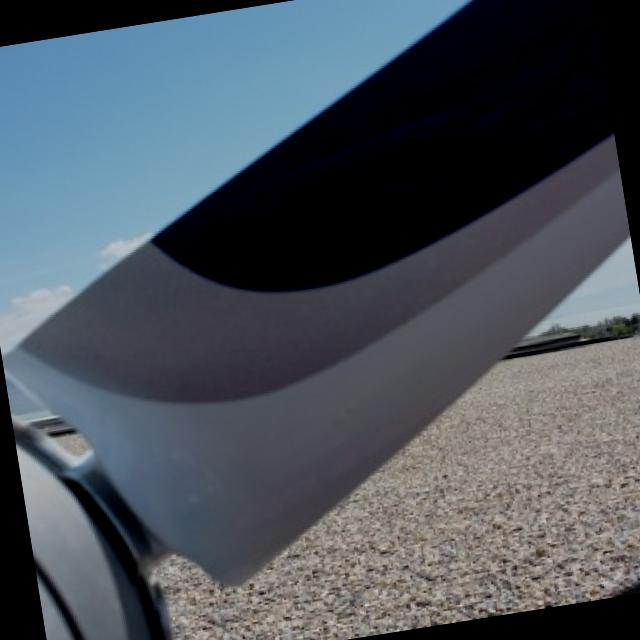healthy: (21, 462, 168, 640)
